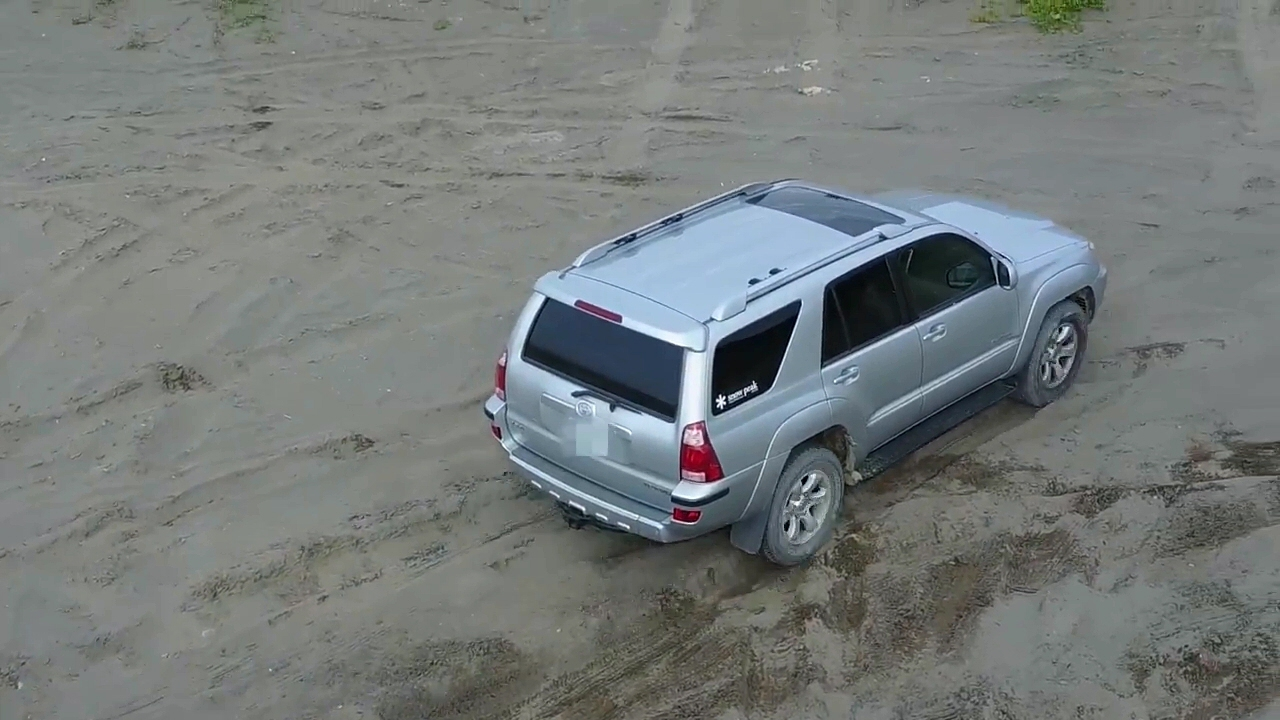araba: (482, 174, 1103, 565)
